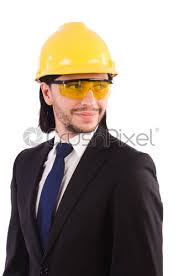Person_wearing_helmet: (31, 13, 116, 101)
